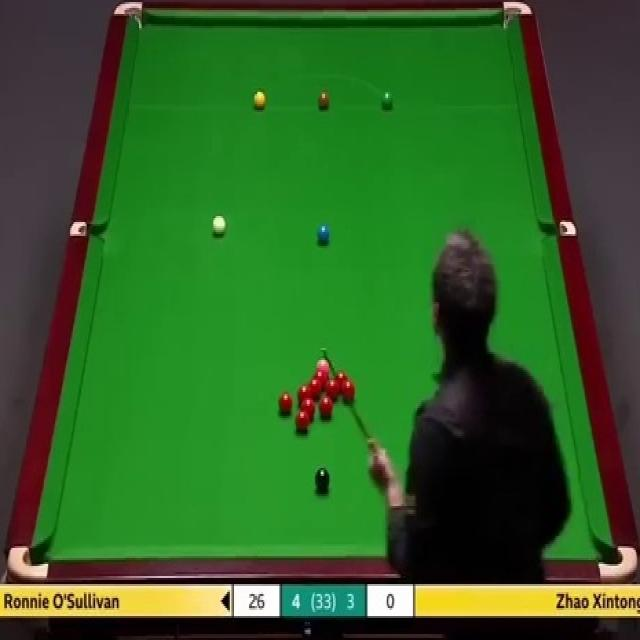pocket: (596, 543, 638, 583), (6, 543, 49, 579), (109, 0, 145, 34), (498, 0, 533, 32), (537, 220, 578, 235), (67, 220, 105, 235)
